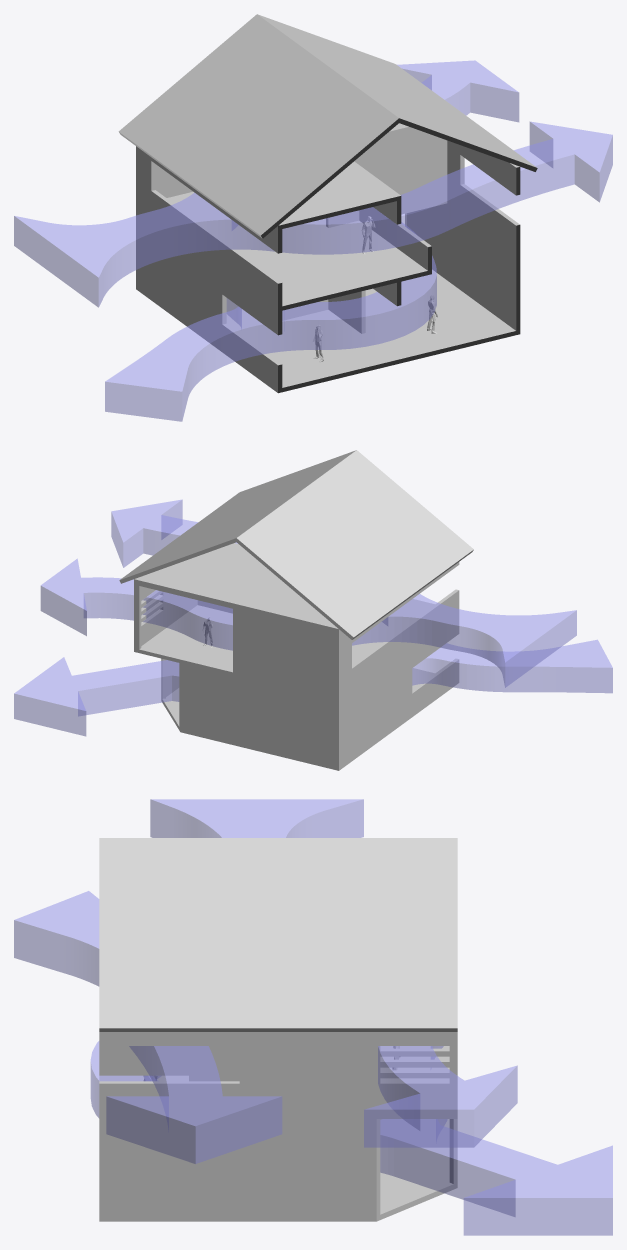
Rendered from capitulo2.glb.
3 renders of one model, top to bottom at view 1: azimuth 30°, elevation 25°; view 2: azimuth 150°, elevation 25°; view 3: azimuth 270°, elevation 25°, orthographic. The views are drawn at different scales.
Parts seen in each view (by area): view 1: Union, object 2, object 8, object 7; view 2: Union, object 2, object 8, object 7; view 3: object 2, Union, object 8, object 7.
Boxes of the visible parts, x1=… form: Union: x1=136, y1=123, x2=520, y2=393; object 2: x1=118, y1=14, x2=537, y2=238; object 8: x1=14, y1=60, x2=612, y2=307; object 7: x1=105, y1=222, x2=436, y2=421; Union: x1=134, y1=543, x2=459, y2=770; object 2: x1=119, y1=450, x2=473, y2=639; object 8: x1=40, y1=499, x2=576, y2=687; object 7: x1=14, y1=639, x2=612, y2=736; object 2: x1=99, y1=838, x2=457, y2=1031; Union: x1=99, y1=1032, x2=457, y2=1221; object 8: x1=106, y1=799, x2=517, y2=1163; object 7: x1=14, y1=891, x2=612, y2=1235.
Bounding box in the file's own units: 5.36 × 2.29 × 4.01.
